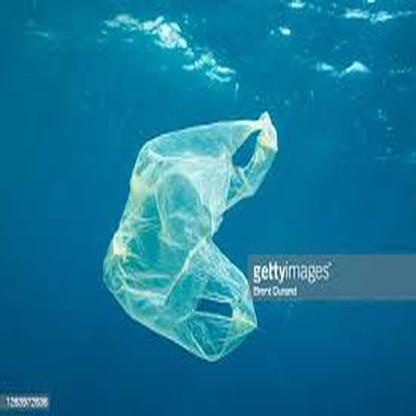plastic bag: (104, 109, 279, 365)
